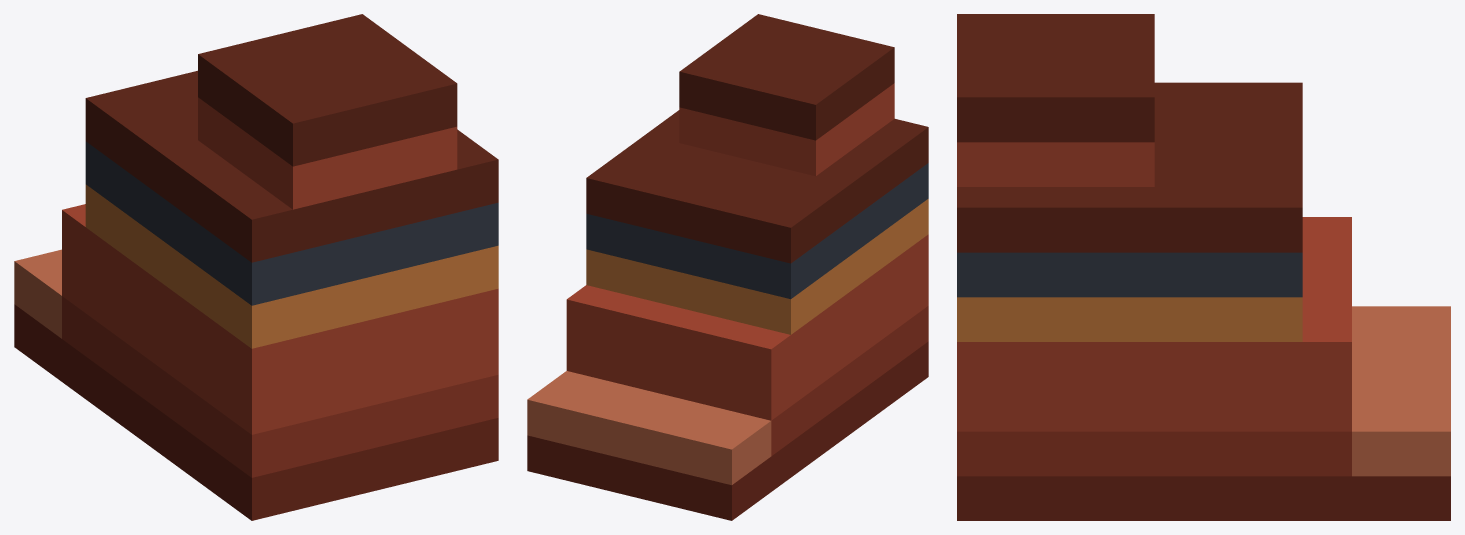
Rendered from retaining_wall_endcap.glb.
3 views of the same model, side by side, from view 1: azimuth 30°, elevation 25°; view 2: azimuth 150°, elevation 25°; view 3: azimuth 270°, elevation 25° (orthographic). The views are drawn at different scales.
Parts seen in each view (by area): view 1: rock; view 2: rock; view 3: rock.
Part boxes in pixels (<box>): rock: <box>14,14,498,520</box>; rock: <box>527,14,928,520</box>; rock: <box>957,14,1450,520</box>.
Bounding box in the file's own units: 6 × 9 × 10.
